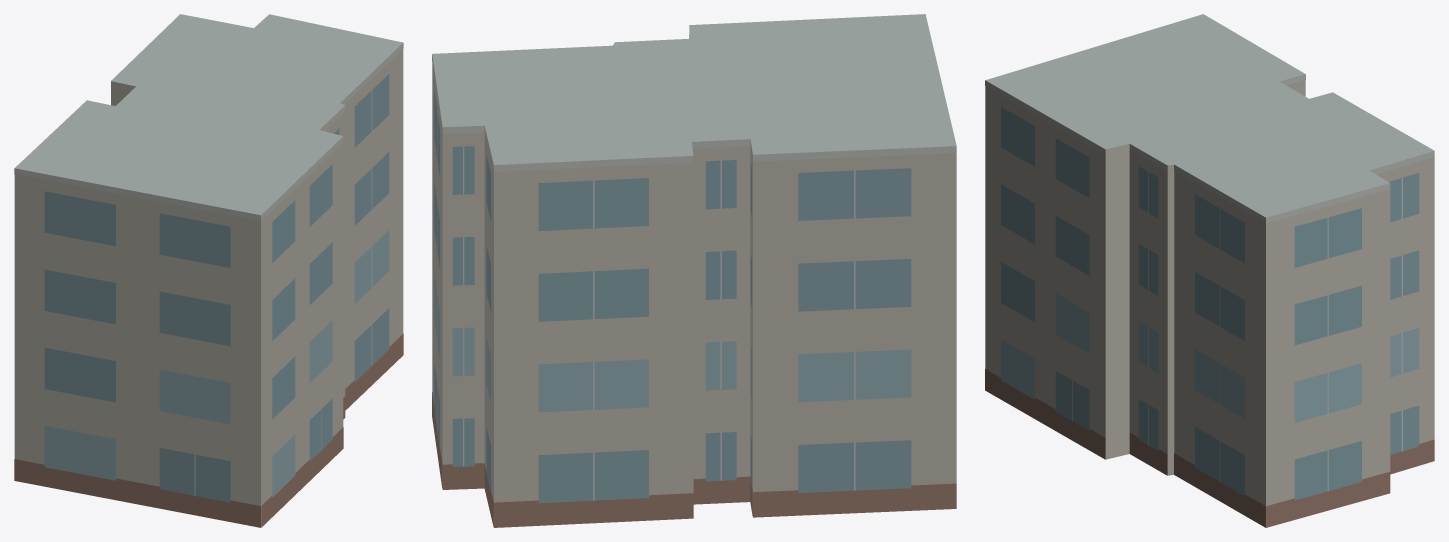
File: survey-upis-32630221.glb
3 renders of one model, left to right at view 1: azimuth 30°, elevation 25°; view 2: azimuth 150°, elevation 25°; view 3: azimuth 270°, elevation 25°, orthographic. The views are drawn at different scales.
Visible parts, largest first — view 1: survey-upis-32630221.tmp; view 2: survey-upis-32630221.tmp; view 3: survey-upis-32630221.tmp.
Boxes of the visible parts, x1,y1,x2,y2 form: survey-upis-32630221.tmp: [14, 14, 403, 527]; survey-upis-32630221.tmp: [432, 14, 956, 527]; survey-upis-32630221.tmp: [985, 14, 1434, 527].
Bounding box in the file's own units: 18.03 × 12.8 × 16.82.
